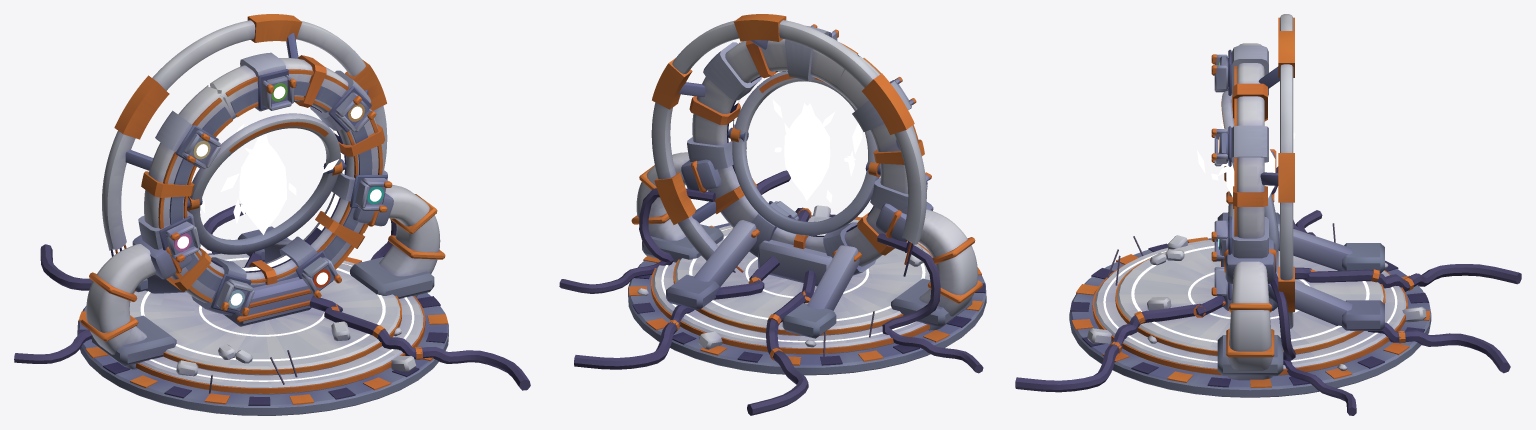
Rendered from hub_loom_core.glb.
3 views of the same model, side by side, from view 1: azimuth 30°, elevation 25°; view 2: azimuth 150°, elevation 25°; view 3: azimuth 270°, elevation 25° (orthographic). The views are drawn at different scales.
Visible parts, largest first — view 1: hub_loom_core, loom_prism; view 2: hub_loom_core, loom_prism; view 3: hub_loom_core, loom_prism.
Boxes of the visible parts, left/top/right/bottom form: hub_loom_core: left=14, top=14, right=530, bottom=415; loom_prism: left=200, top=123, right=338, bottom=234; hub_loom_core: left=559, top=14, right=986, bottom=415; loom_prism: left=772, top=99, right=862, bottom=203; hub_loom_core: left=1015, top=14, right=1521, bottom=415; loom_prism: left=1197, top=123, right=1295, bottom=197.
Bounding box in the file's own units: 20.76 × 14.37 × 22.4.
